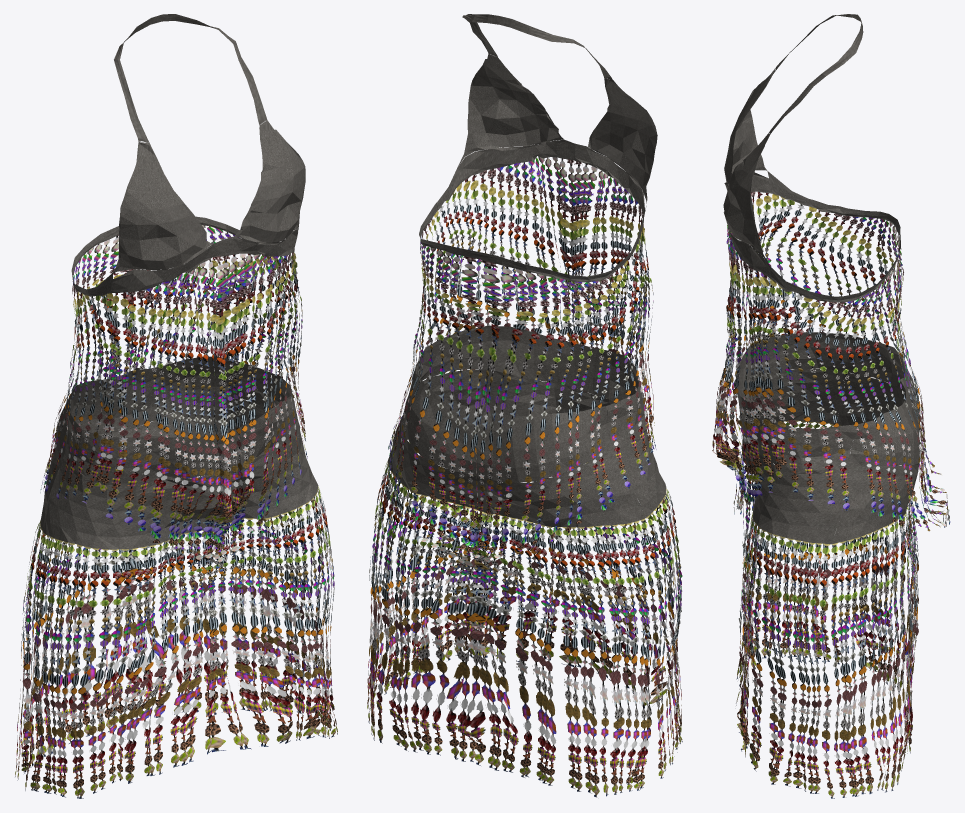
The model's file is mhw_elvs_fringe_hippy_dress.glb.
The picture shows the model from 3 angles, left to right: view 1: azimuth 30°, elevation 25°; view 2: azimuth 150°, elevation 25°; view 3: azimuth 270°, elevation 25°; orthographic projection. The views are drawn at different scales.
Parts seen in each view (by area): view 1: mhw_elvs_fringe_hippy_dress; view 2: mhw_elvs_fringe_hippy_dress; view 3: mhw_elvs_fringe_hippy_dress.
Boxes of the visible parts, left/top/right/bottom form: mhw_elvs_fringe_hippy_dress: left=15, top=14, right=337, bottom=798; mhw_elvs_fringe_hippy_dress: left=367, top=14, right=682, bottom=797; mhw_elvs_fringe_hippy_dress: left=712, top=14, right=950, bottom=798.
Bounding box in the file's own units: 0.4825 × 1.17 × 0.3513.
Materials: 1 (1 with a texture image).
